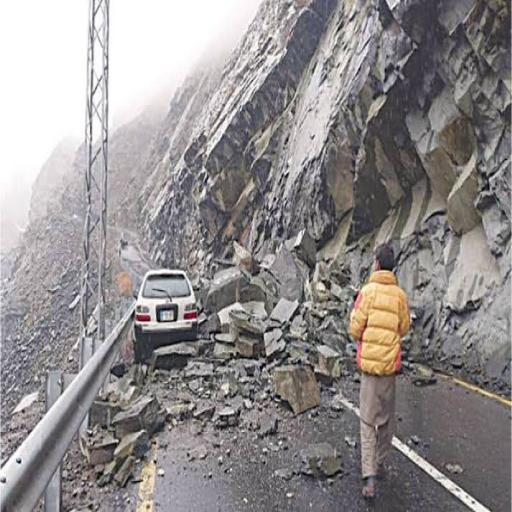Landslide: (199, 248, 347, 389)
Rock: (297, 437, 346, 489), (128, 394, 166, 427)
